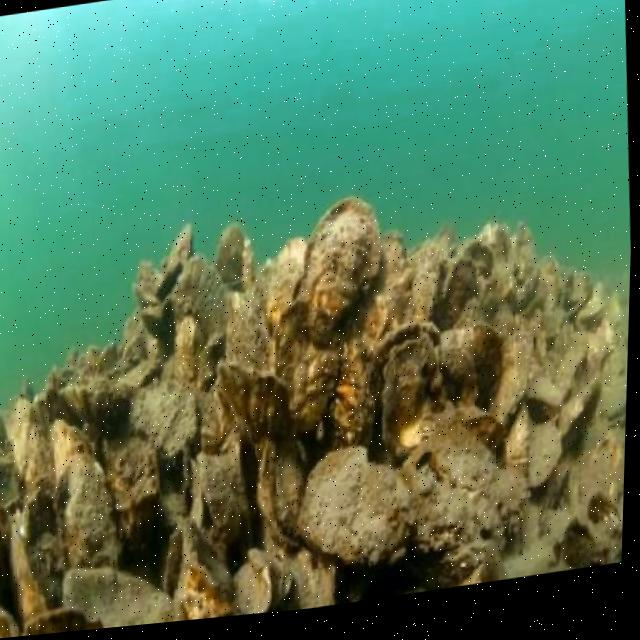Oyster-Closed: (242, 434, 314, 551), (42, 414, 103, 483)
Oyster-Indeterminate: (295, 435, 406, 581), (386, 456, 501, 594), (292, 194, 387, 352), (432, 418, 529, 535), (63, 551, 191, 632), (95, 428, 179, 543), (48, 449, 125, 566), (369, 320, 451, 429), (120, 370, 204, 459), (268, 523, 344, 612), (222, 529, 297, 617), (164, 548, 250, 622), (216, 289, 280, 383), (155, 513, 229, 591), (332, 341, 388, 441), (174, 254, 235, 342), (12, 410, 71, 499), (7, 535, 61, 628), (487, 328, 541, 419), (212, 211, 265, 303), (252, 237, 307, 323), (431, 398, 509, 454), (293, 353, 352, 426), (437, 313, 498, 381), (91, 380, 153, 446), (530, 414, 572, 496), (551, 376, 603, 442), (264, 303, 307, 380), (528, 294, 577, 354), (433, 260, 477, 318), (369, 220, 405, 290), (26, 599, 92, 636), (472, 261, 518, 314), (554, 332, 596, 389), (409, 261, 445, 327), (526, 368, 573, 418), (506, 216, 543, 271), (163, 222, 199, 276), (478, 219, 515, 269), (400, 249, 442, 288), (446, 238, 496, 270), (137, 303, 171, 344), (582, 282, 611, 329), (503, 406, 530, 456), (160, 291, 179, 345), (157, 261, 181, 298), (0, 597, 16, 639)
